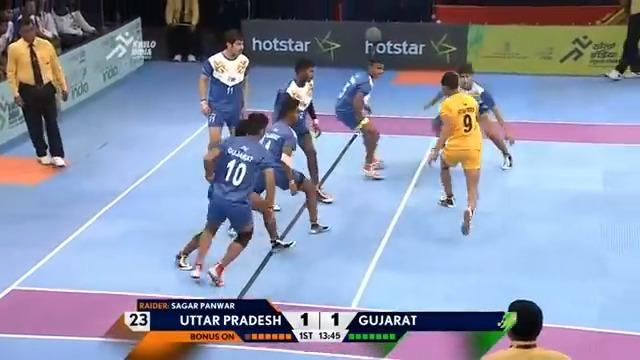Player: (175, 112, 278, 287), (227, 95, 331, 250), (425, 65, 516, 171), (273, 57, 333, 204), (197, 28, 250, 182), (334, 55, 385, 180)
Raider: (426, 70, 483, 235)
referee: (5, 20, 69, 167), (481, 297, 572, 358)
